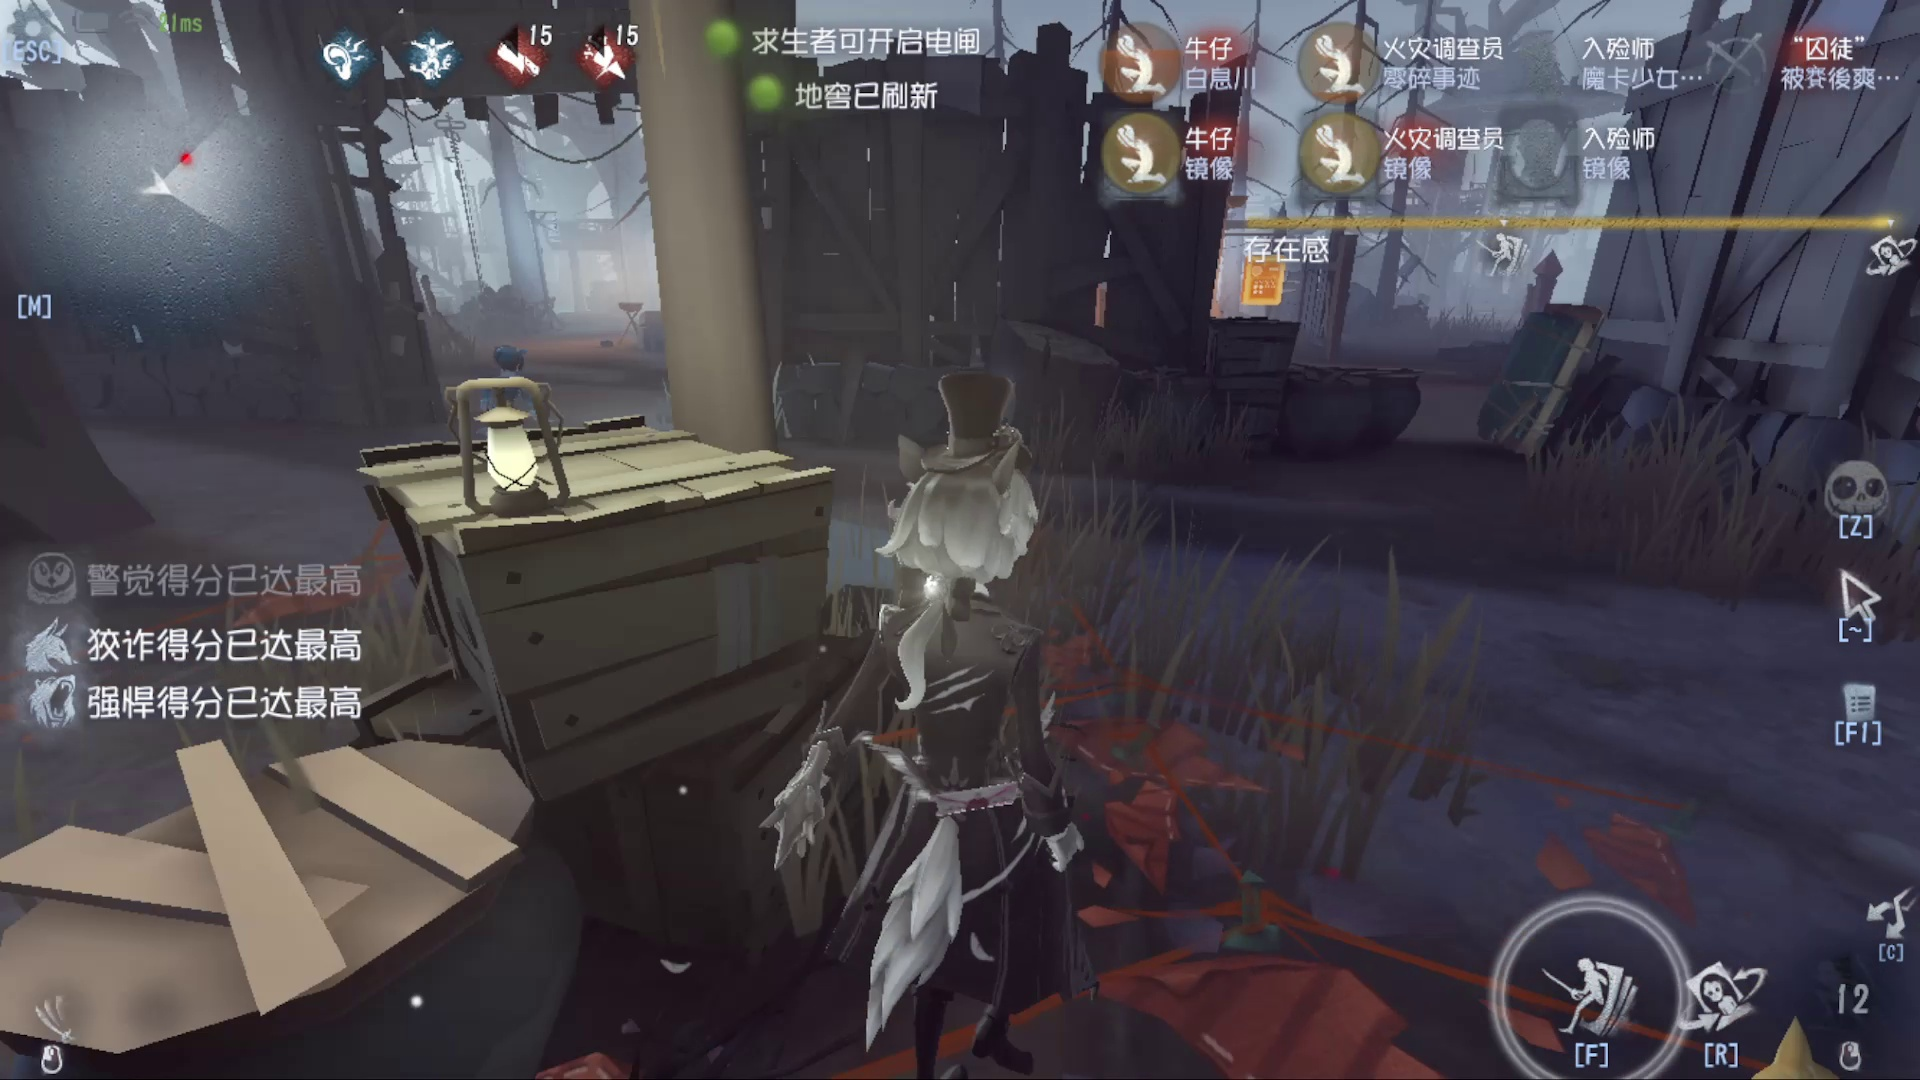求生者: (446, 334, 562, 426)
脚印: (1100, 665, 1489, 1013), (1464, 320, 1589, 463)
